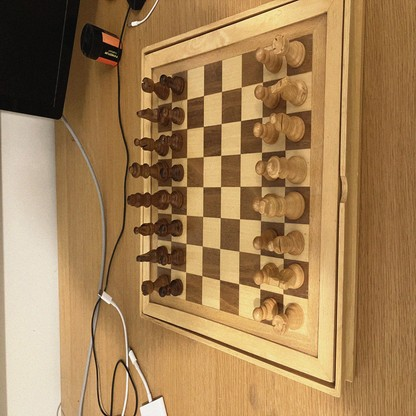bishop_black: (135, 137, 168, 155), (134, 222, 165, 237)
bishop_white: (270, 113, 305, 141), (269, 233, 304, 256)
king_black: (127, 194, 169, 208)
king_white: (260, 195, 305, 218)
knight_black: (137, 246, 166, 264), (136, 109, 162, 122)
knight_white: (272, 79, 308, 104), (269, 264, 304, 289)
pawn_black: (160, 76, 185, 94), (162, 106, 184, 124), (159, 280, 182, 296), (160, 192, 183, 207), (161, 249, 183, 264), (159, 220, 182, 234), (161, 165, 184, 179), (161, 136, 182, 150)
pawn_white: (254, 296, 278, 323), (255, 48, 282, 70), (254, 87, 280, 106), (254, 230, 277, 250), (255, 122, 278, 141), (254, 194, 279, 211), (255, 265, 277, 283), (256, 160, 271, 182)
queen_white: (267, 157, 307, 181), (129, 162, 166, 179)
rock_black: (142, 78, 170, 99), (142, 276, 169, 294)
rock_white: (274, 34, 306, 68), (273, 304, 305, 335)
